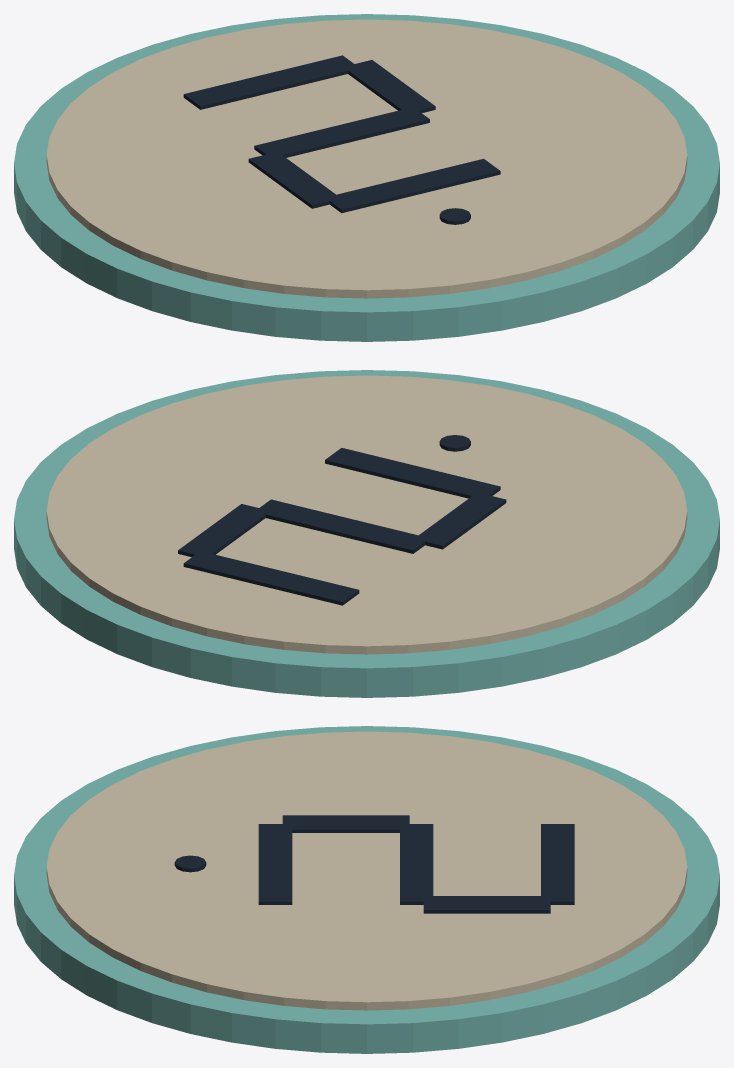
File: space_number_2.glb
The picture shows the model from 3 angles, top to bottom: view 1: azimuth 30°, elevation 25°; view 2: azimuth 150°, elevation 25°; view 3: azimuth 270°, elevation 25°; orthographic projection.
Parts seen in each view (by area): view 1: FixedDetails; view 2: FixedDetails; view 3: FixedDetails.
Part boxes in pixels (x1=…): FixedDetails: x1=14, y1=14, x2=719, y2=341; FixedDetails: x1=14, y1=370, x2=719, y2=697; FixedDetails: x1=14, y1=726, x2=719, y2=1053.
Bounding box in the file's own units: 0.54 × 0.036 × 0.54.
